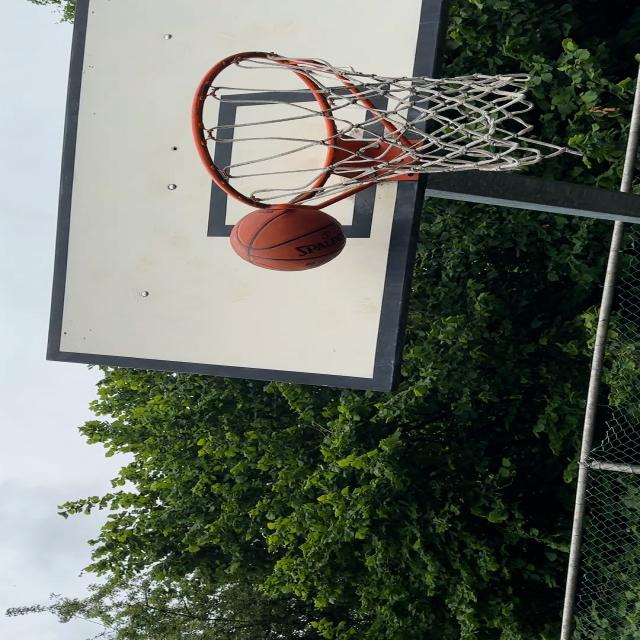rebound_hit: (230, 201, 350, 272)
